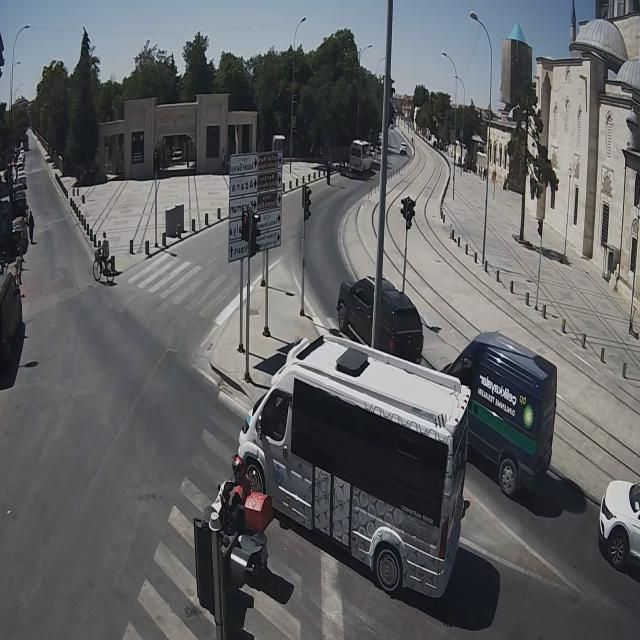Bus: (237, 332, 472, 600)
Car: (336, 274, 425, 366), (597, 478, 640, 568), (8, 217, 28, 246), (400, 142, 408, 154)
Cycle: (92, 250, 115, 284)
Van: (434, 332, 556, 498), (0, 272, 23, 363), (349, 140, 374, 172)
